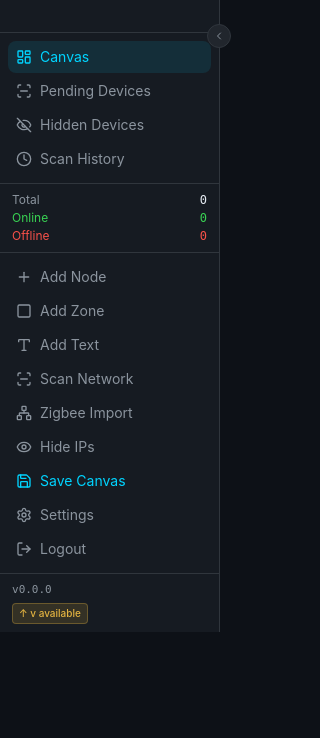
Test case: Sidebar › shows History panel when Scan History nav item is clicked
Click the button "Scan History".
click(110, 159)  # box x1=8 y1=143 x2=211 y2=175
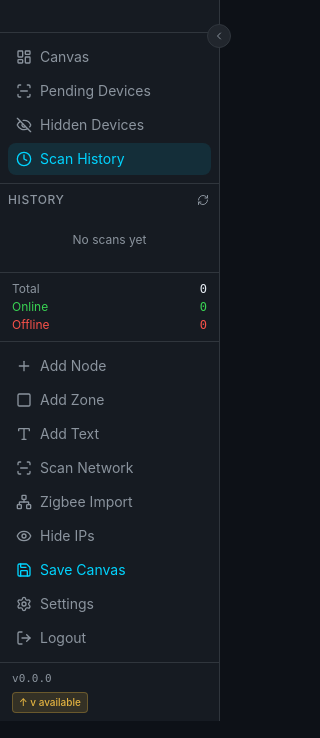
Expected: the text "No scans yet" is shown, x1=72 y1=232 x2=146 y2=247
